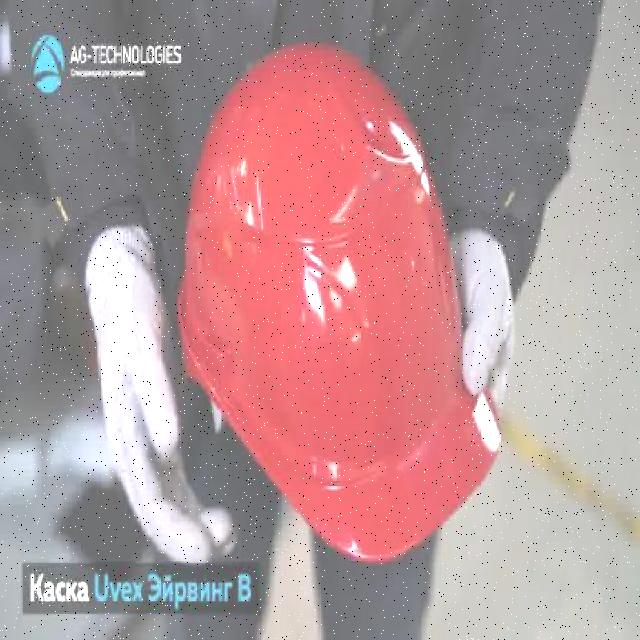Gloves: (83, 222, 240, 568), (446, 219, 520, 419)
Helmet: (176, 41, 504, 572)
